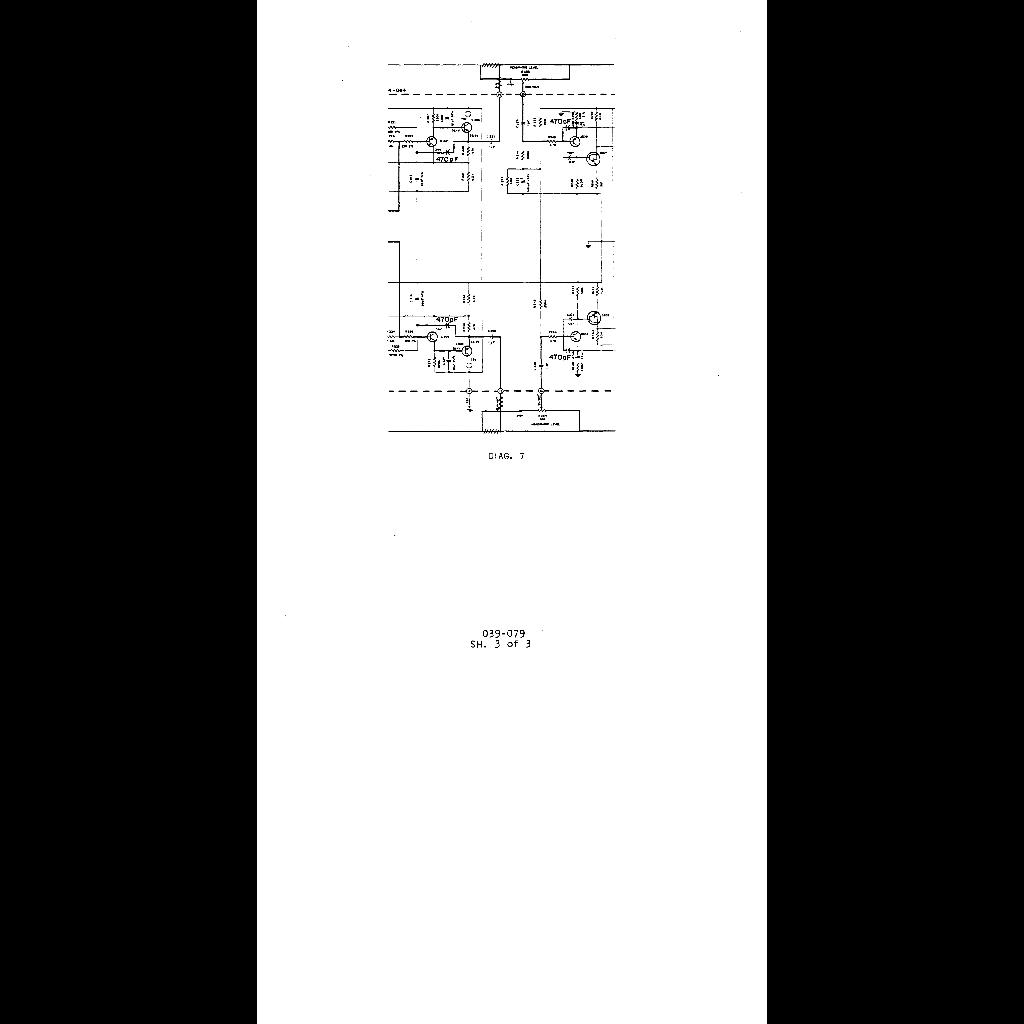Diagram: (378, 56, 624, 464)
